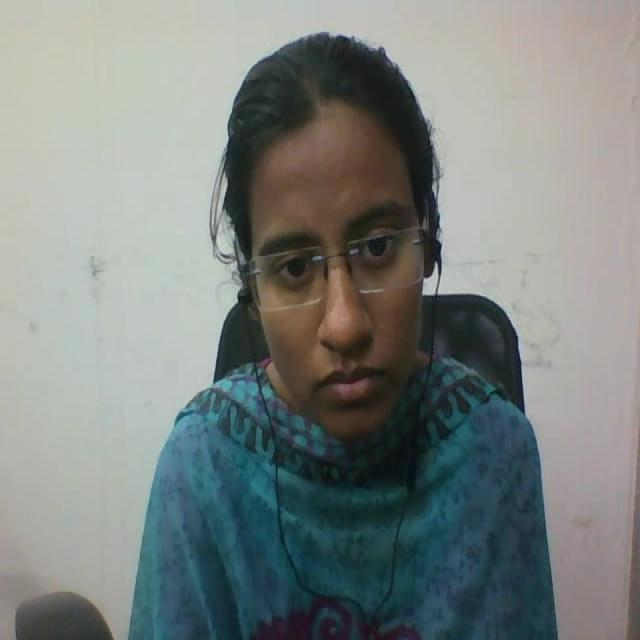Engaged: (189, 14, 476, 477)
